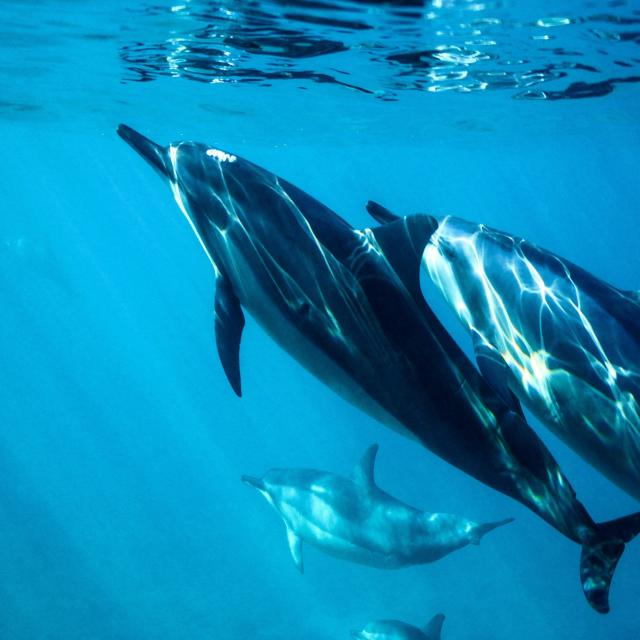penguin: (118, 125, 640, 613), (421, 216, 640, 501), (242, 444, 514, 572), (351, 614, 445, 640)
